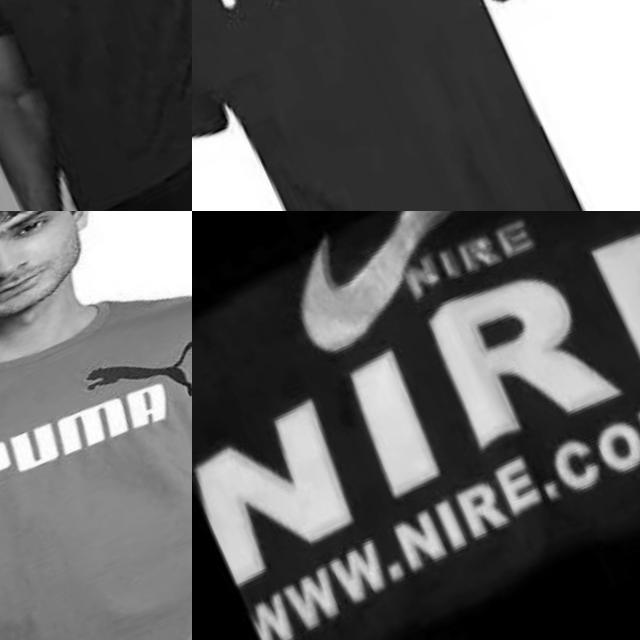FILA_fake: (192, 0, 441, 52)
NIKE_fake: (192, 211, 640, 587)
PUMA_original: (0, 318, 192, 530)
